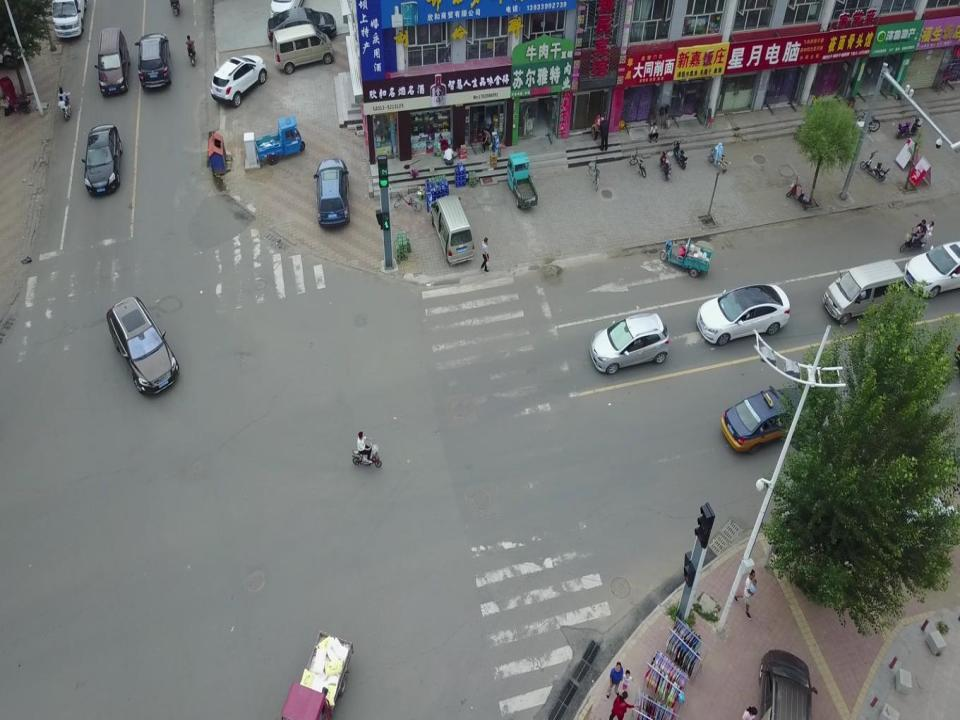car: (107, 296, 179, 395), (721, 385, 812, 455), (697, 284, 790, 344), (590, 310, 669, 373), (754, 647, 814, 720), (905, 241, 960, 301), (210, 55, 269, 107), (81, 123, 123, 195), (267, 8, 337, 45), (313, 159, 351, 226), (135, 34, 171, 90)
truck: (278, 631, 351, 720), (255, 116, 306, 164), (506, 153, 539, 210), (52, 0, 87, 39)
van: (822, 260, 905, 324), (272, 24, 334, 74), (431, 195, 475, 264), (94, 27, 130, 97)
